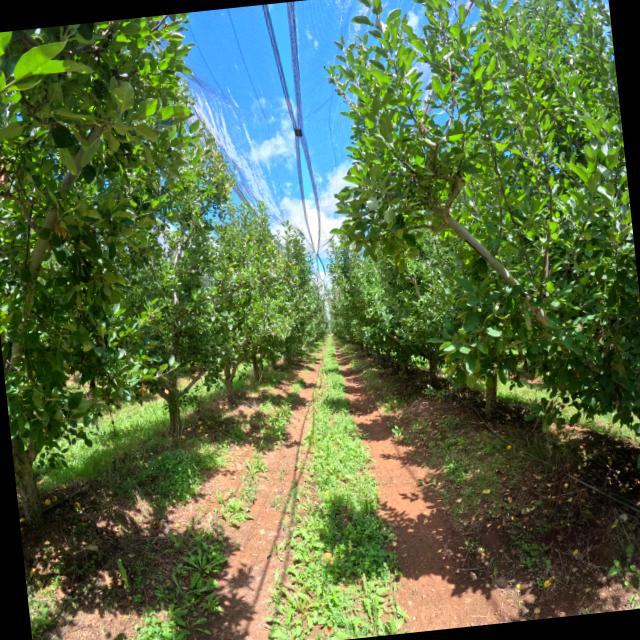-FireBlight-: (0, 162, 15, 189), (138, 382, 148, 397)
